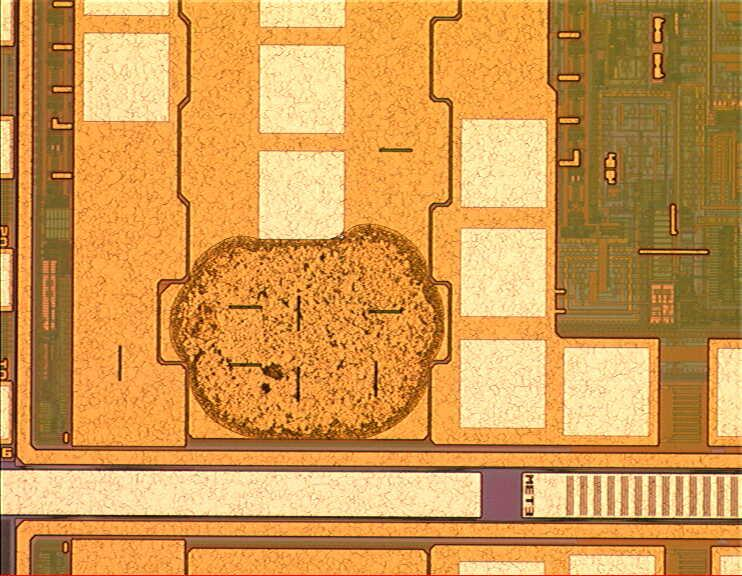BLOCK ETCH: (165, 219, 452, 445)
